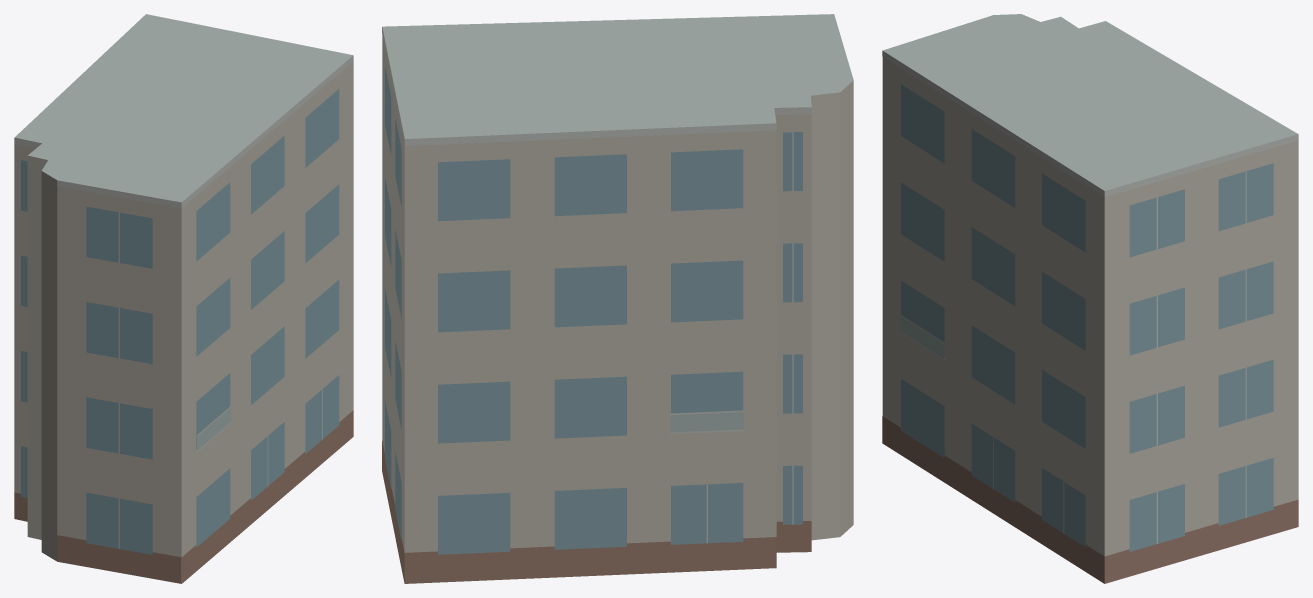
File: survey-upis-32811879.glb
3 views of the same model, side by side, from view 1: azimuth 30°, elevation 25°; view 2: azimuth 150°, elevation 25°; view 3: azimuth 270°, elevation 25° (orthographic). The views are drawn at different scales.
Parts seen in each view (by area): view 1: survey-upis-32811879.tmp; view 2: survey-upis-32811879.tmp; view 3: survey-upis-32811879.tmp.
Part boxes in pixels (bbox=[...]): survey-upis-32811879.tmp: bbox=[14, 14, 353, 583]; survey-upis-32811879.tmp: bbox=[382, 14, 853, 583]; survey-upis-32811879.tmp: bbox=[882, 14, 1298, 583].
Bounding box in the file's own units: 15.04 × 15.55 × 14.93.
